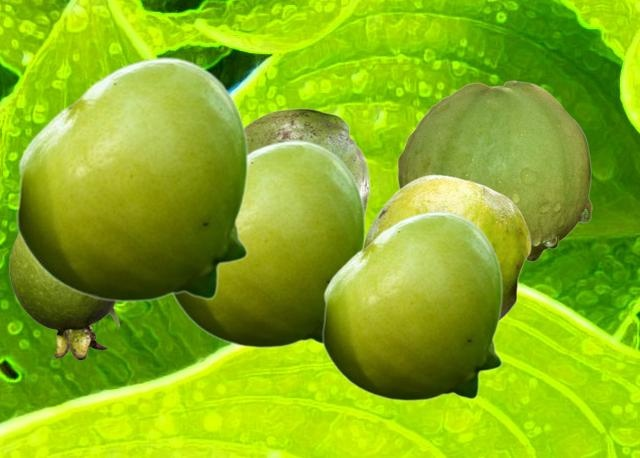guava: (15, 56, 248, 301), (172, 139, 365, 347), (397, 80, 591, 262), (321, 210, 502, 400), (361, 174, 530, 320), (9, 234, 120, 359), (246, 108, 369, 213)
